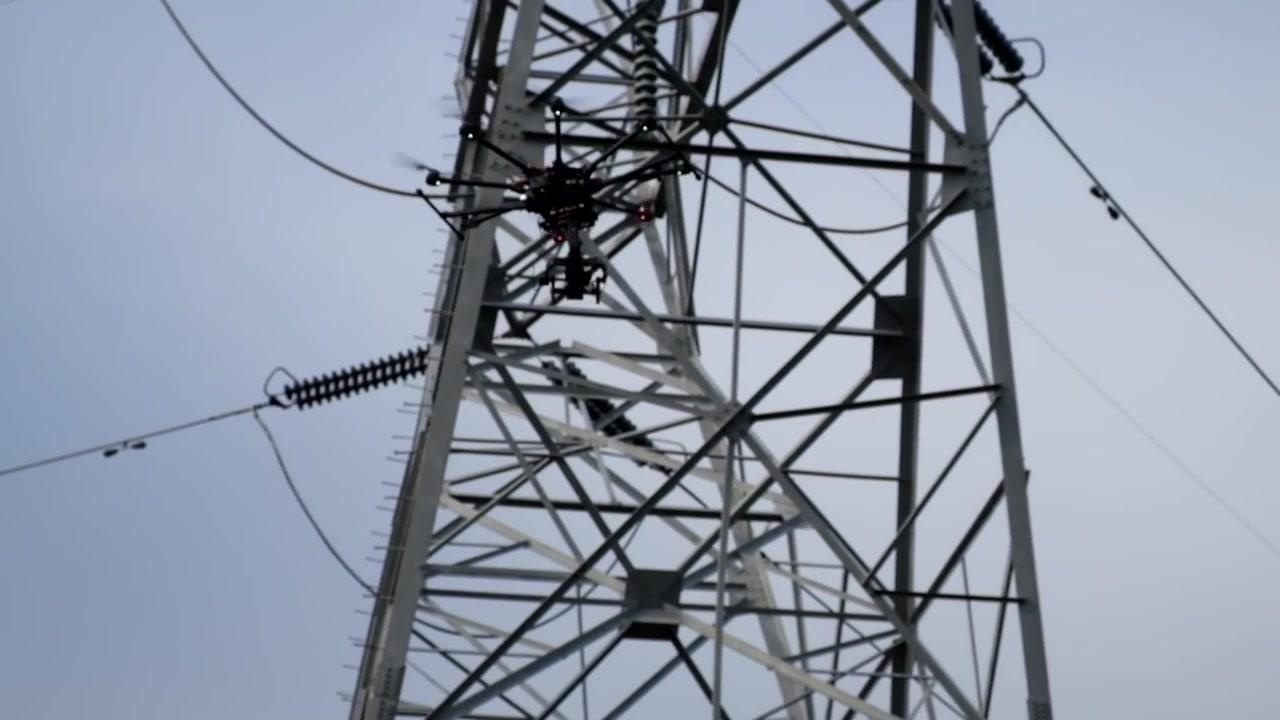UAV: (416, 97, 692, 305)
